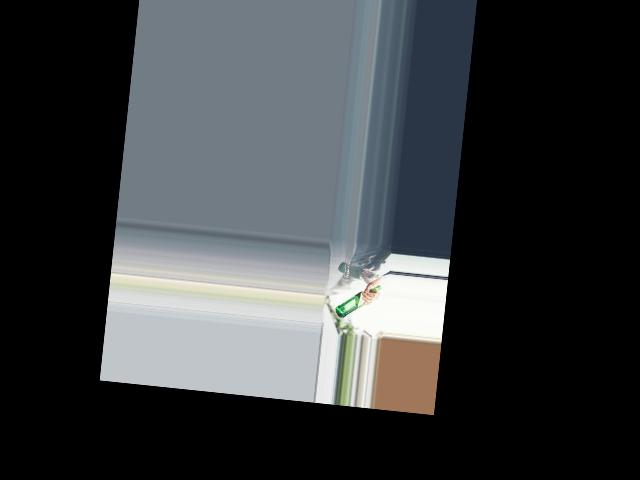beer: (334, 280, 380, 321)
